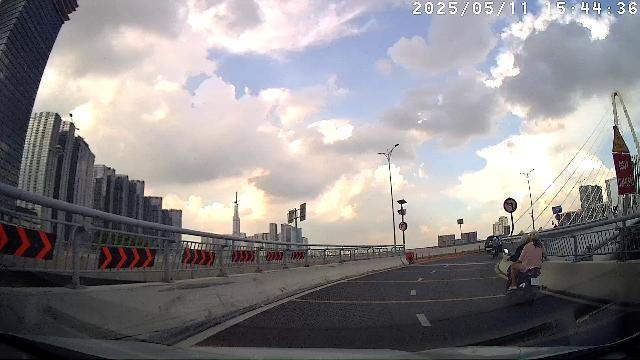123a-cam-re-trai: (503, 197, 518, 213)
